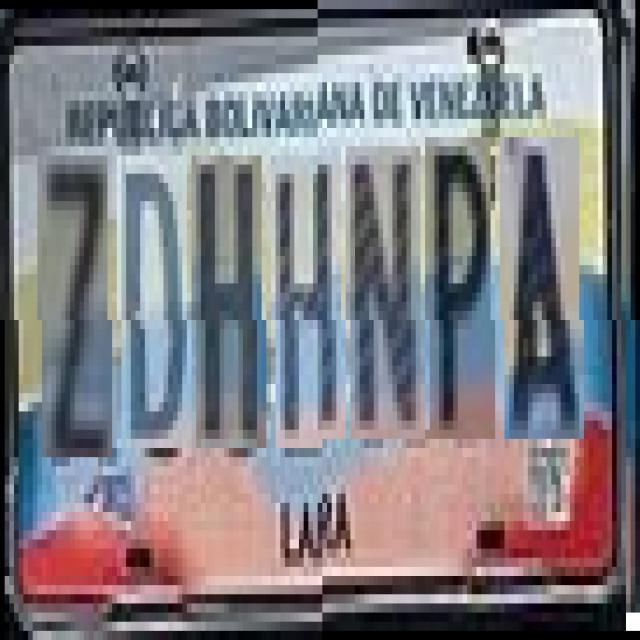A: (504, 146, 584, 448)
D: (122, 155, 192, 448)
H: (196, 155, 266, 448), (276, 155, 346, 448)
N: (350, 155, 425, 448)
P: (430, 146, 496, 448)
Z: (42, 156, 112, 457)
